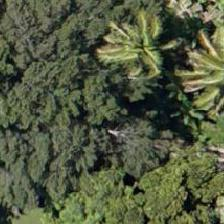coconut_tree: (107, 0, 197, 89)
